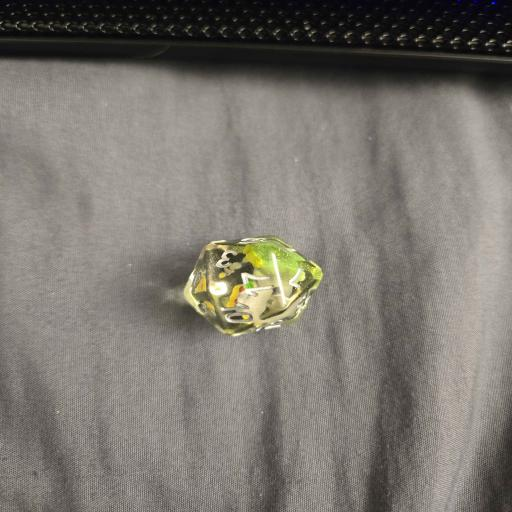twenty sided dice: (183, 236, 324, 336)
